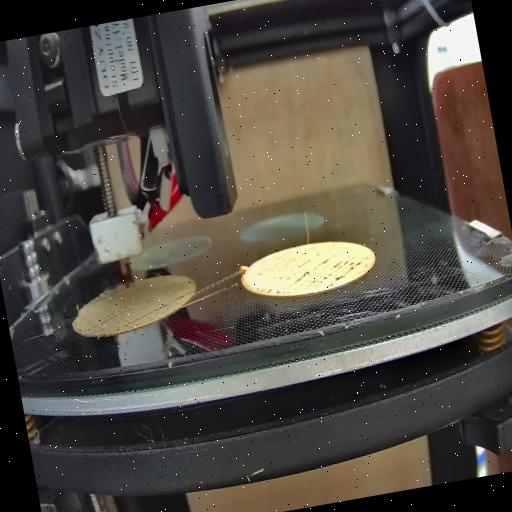under_extrusion: (254, 246, 373, 301), (91, 283, 197, 334)
